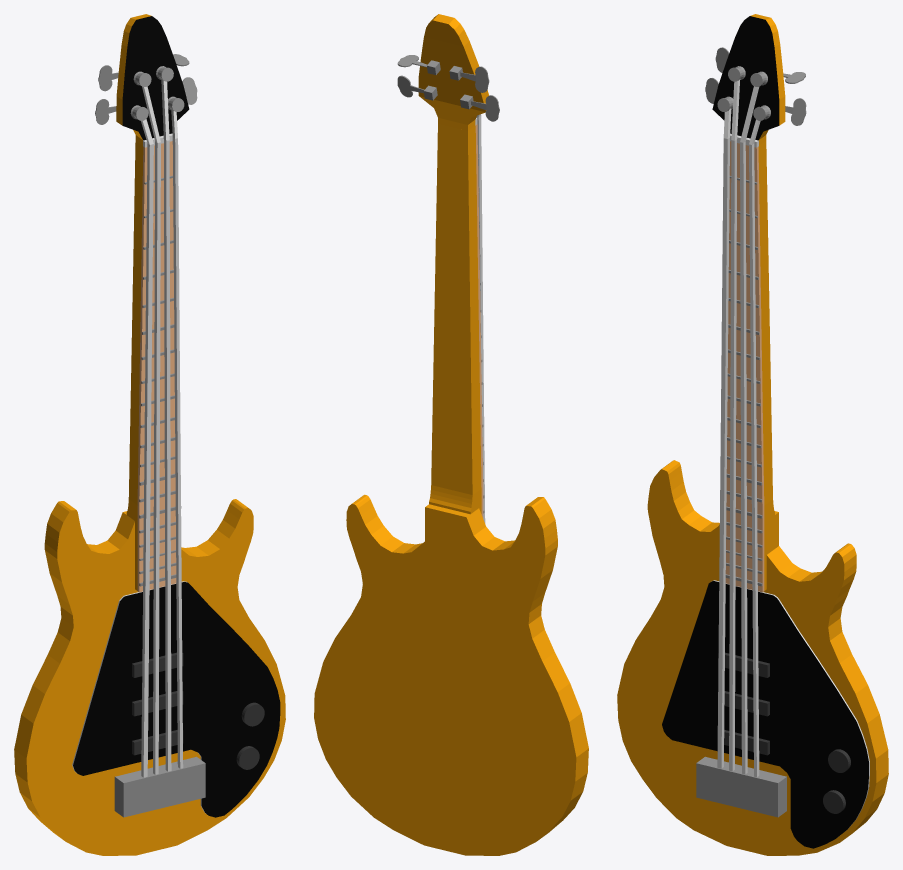
The model's file is Gibson G3 Bass.fbx.
3 views of the same model, side by side, from view 1: azimuth 30°, elevation 25°; view 2: azimuth 150°, elevation 25°; view 3: azimuth 330°, elevation 25° (orthographic).
Parts seen in each view (by area): view 1: Body, Pickgaurd, Fretboard, Head, String E, String D, String A, String G, Bridge, Neck; view 2: Body, Neck, Head, String E, Fretboard; view 3: Body, Pickgaurd, Fretboard, Head, String E, String A, String D, String G, Neck, Bridge.
Part boxes in pixels (<box>): Body: <box>14,499,285,855</box>; Pickgaurd: <box>72,581,280,817</box>; Fretboard: <box>137,141,181,592</box>; Head: <box>116,14,189,145</box>; String E: <box>141,119,153,777</box>; String D: <box>161,79,171,771</box>; String A: <box>142,86,160,774</box>; String G: <box>171,109,183,768</box>; Bridge: <box>114,756,205,817</box>; Neck: <box>126,141,143,590</box>; Body: <box>314,494,588,855</box>; Neck: <box>429,124,481,514</box>; Head: <box>418,14,488,130</box>; String E: <box>476,114,485,523</box>; Fretboard: <box>475,124,484,518</box>; Body: <box>617,460,888,855</box>; Pickgaurd: <box>662,580,869,848</box>; Fretboard: <box>725,141,764,592</box>; Head: <box>712,14,785,145</box>; String E: <box>717,108,731,768</box>; String A: <box>729,79,740,771</box>; String D: <box>740,86,759,774</box>; String G: <box>749,119,760,777</box>; Neck: <box>758,141,774,590</box>; Bridge: <box>696,756,786,817</box>.
Size of the model in its own units: 158 by 481 by 30.78.
